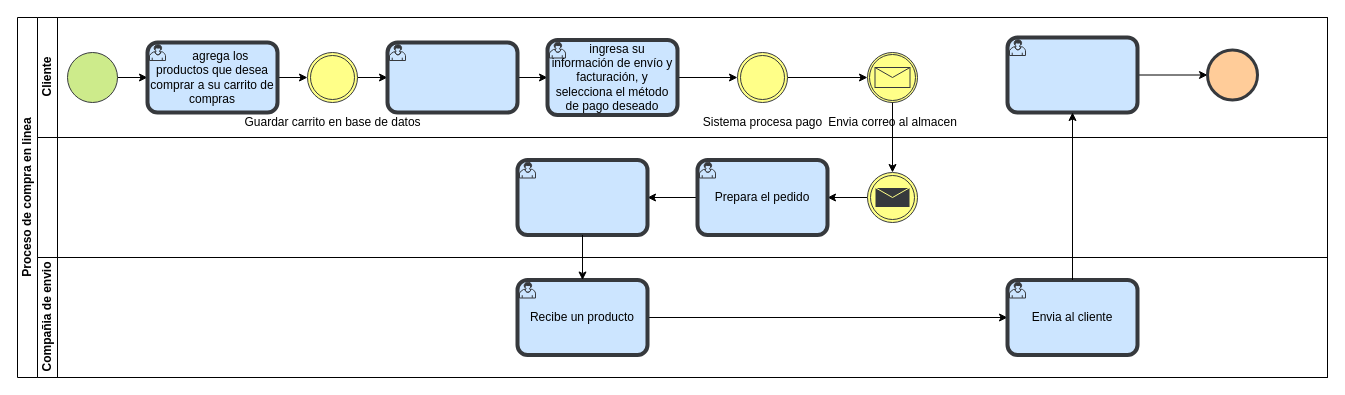
Image size: 1345x395. Some labels were removed from this diagram. The box of each missing label's shape, as (x1, y1, x2, y2) in pixels:
Almacen: (36, 136, 1328, 258)
Enviarlo a la compañia de envios: (516, 159, 648, 235)
Recibe el pedido: (1006, 36, 1138, 112)
revisa los productos en su carrito de compras y procede a la página de pago: (386, 42, 518, 112)
